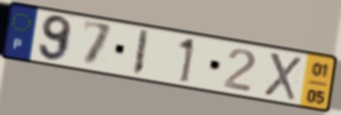1: (176, 38, 197, 85)
2: (221, 48, 257, 94)
7: (81, 19, 113, 69)
9: (38, 14, 75, 65)
I: (130, 28, 151, 79)
X: (262, 50, 303, 103)
